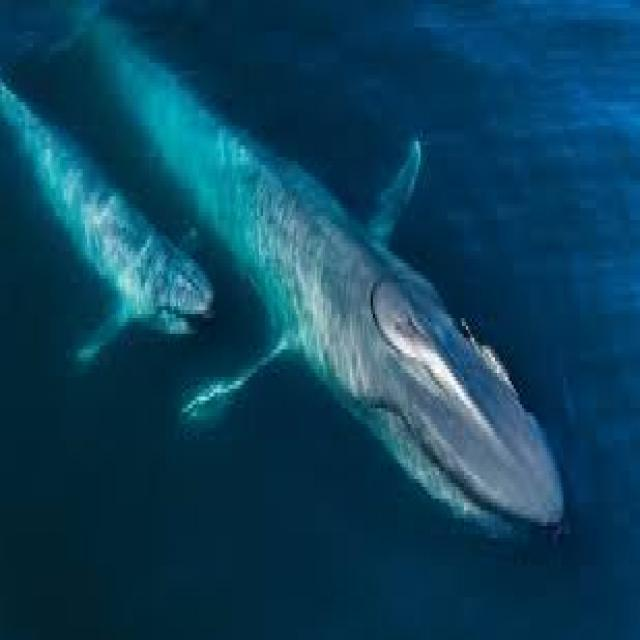blue_whale: (83, 0, 586, 605), (0, 67, 226, 400)
